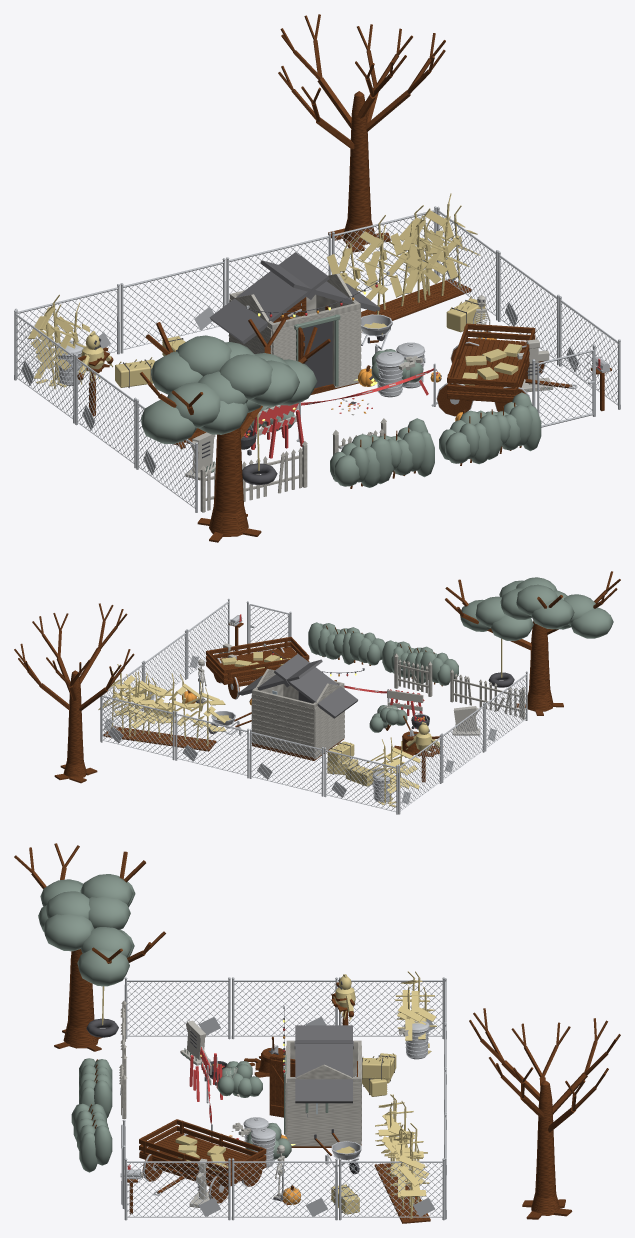
Rendered from halloween-slasher-street-shed-and-back-lot-74e7aa6a__27332.glb.
3 renders of one model, top to bottom at view 1: azimuth 30°, elevation 25°; view 2: azimuth 150°, elevation 25°; view 3: azimuth 270°, elevation 25°, orthographic. The views are drawn at different scales.
Visible parts, largest first — view 1: 036-tyre-swing-tree/1, 035-dead-oak-tree/0, 054-cornfield-row/0, 000-garden-shed-door-open/4, 036-tyre-swing-tree/0, 000-garden-shed-door-open/1, 037-overgrown-hedge/0, 032-hayride-wagon/0, 038-overgrown-hedge/0, 015-chain-link-fence-bay/0, 019-chain-link-fence-bay/0, 018-chain-link-fence-bay/0 (+21 smaller); view 2: 036-tyre-swing-tree/1, 000-garden-shed-door-open/1, 035-dead-oak-tree/0, 054-cornfield-row/0, 036-tyre-swing-tree/0, 000-garden-shed-door-open/4, 032-hayride-wagon/0, 038-overgrown-hedge/0, 016-chain-link-fence-bay/0, 014-chain-link-fence-bay/0, 015-chain-link-fence-bay/0, 037-overgrown-hedge/0 (+21 smaller); view 3: 036-tyre-swing-tree/1, 035-dead-oak-tree/0, 000-garden-shed-door-open/1, 032-hayride-wagon/0, 000-garden-shed-door-open/4, 036-tyre-swing-tree/0, 023-chain-link-fence-bay/0, 022-chain-link-fence-bay/0, 020-chain-link-fence-bay/0, 021-chain-link-fence-bay/0, 019-chain-link-fence-bay/0, 054-cornfield-row/0 (+16 smaller).
Boxes of the visible parts, left/top/right/bottom form: 036-tyre-swing-tree/1: left=141, top=335, right=317, bottom=443; 035-dead-oak-tree/0: left=278, top=14, right=445, bottom=252; 054-cornfield-row/0: left=327, top=193, right=480, bottom=314; 000-garden-shed-door-open/4: left=209, top=252, right=380, bottom=343; 036-tyre-swing-tree/0: left=140, top=318, right=330, bottom=542; 000-garden-shed-door-open/1: left=228, top=273, right=361, bottom=387; 037-overgrown-hedge/0: left=330, top=418, right=434, bottom=487; 032-hayride-wagon/0: left=447, top=323, right=571, bottom=402; 038-overgrown-hedge/0: left=439, top=392, right=541, bottom=464; 015-chain-link-fence-bay/0: left=120, top=258, right=225, bottom=353; 019-chain-link-fence-bay/0: left=75, top=354, right=136, bottom=468; 018-chain-link-fence-bay/0: left=14, top=310, right=75, bottom=423; 036-tyre-swing-tree/1: left=460, top=577, right=613, bottom=640; 000-garden-shed-door-open/1: left=251, top=669, right=344, bottom=759; 035-dead-oak-tree/0: left=14, top=603, right=134, bottom=783; 054-cornfield-row/0: left=98, top=664, right=226, bottom=746; 036-tyre-swing-tree/0: left=445, top=571, right=620, bottom=715; 000-garden-shed-door-open/4: left=238, top=654, right=357, bottom=718; 032-hayride-wagon/0: left=206, top=637, right=309, bottom=686; 038-overgrown-hedge/0: left=308, top=622, right=385, bottom=665; 016-chain-link-fence-bay/0: left=175, top=711, right=249, bottom=778; 014-chain-link-fence-bay/0: left=324, top=747, right=398, bottom=814; 015-chain-link-fence-bay/0: left=249, top=729, right=323, bottom=796; 037-overgrown-hedge/0: left=382, top=640, right=458, bottom=685; 036-tyre-swing-tree/1: left=38, top=874, right=135, bottom=986; 035-dead-oak-tree/0: left=469, top=1008, right=620, bottom=1219; 000-garden-shed-door-open/1: left=285, top=1040, right=361, bottom=1146; 032-hayride-wagon/0: left=139, top=1119, right=266, bottom=1193; 000-garden-shed-door-open/4: left=294, top=1025, right=353, bottom=1103; 036-tyre-swing-tree/0: left=14, top=843, right=165, bottom=1051; 023-chain-link-fence-bay/0: left=124, top=1158, right=230, bottom=1220; 022-chain-link-fence-bay/0: left=231, top=1158, right=337, bottom=1220; 020-chain-link-fence-bay/0: left=124, top=977, right=230, bottom=1039; 021-chain-link-fence-bay/0: left=339, top=1158, right=444, bottom=1220; 019-chain-link-fence-bay/0: left=231, top=977, right=337, bottom=1039; 054-cornfield-row/0: left=375, top=1094, right=426, bottom=1218.
Size of the model in its own units: 15.87 by 5.77 by 17.
12 materials, 3 textured.
